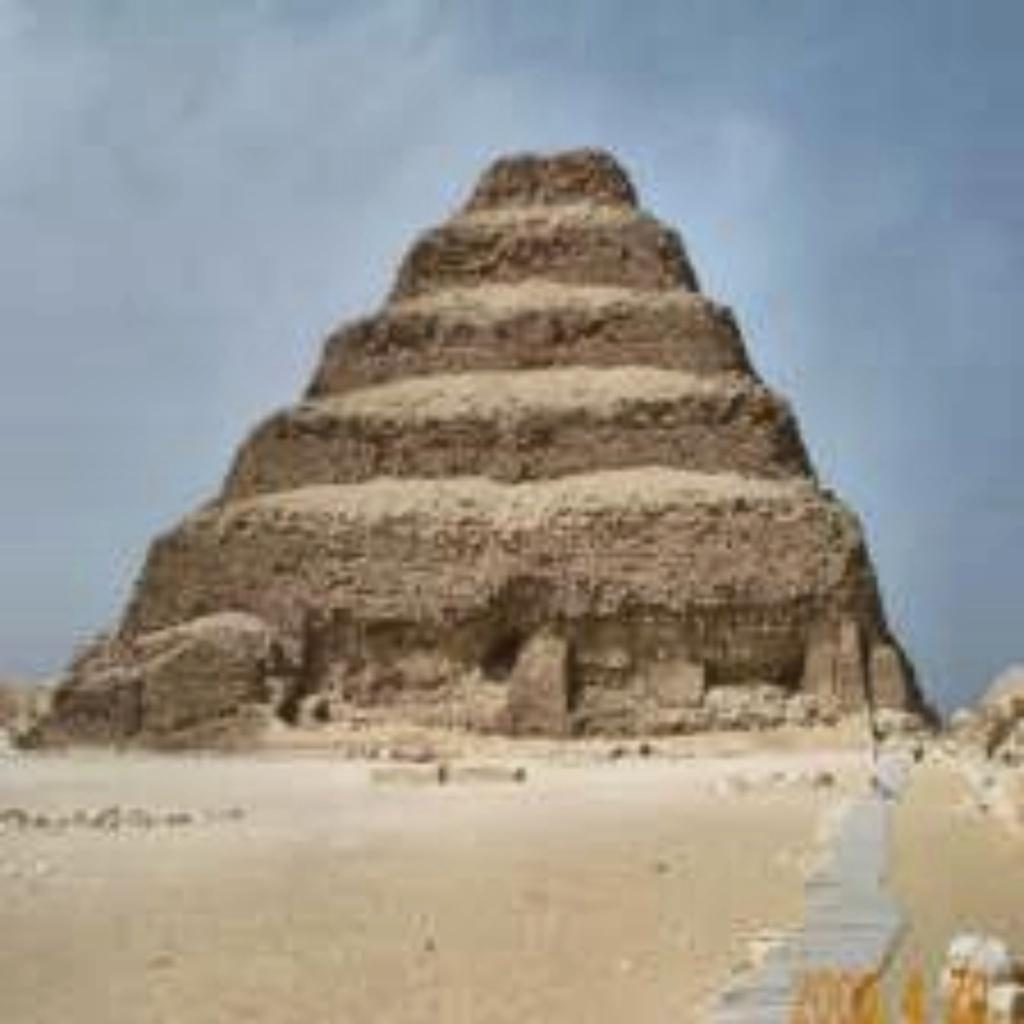Pyramid of Djoser: (28, 137, 942, 754)
